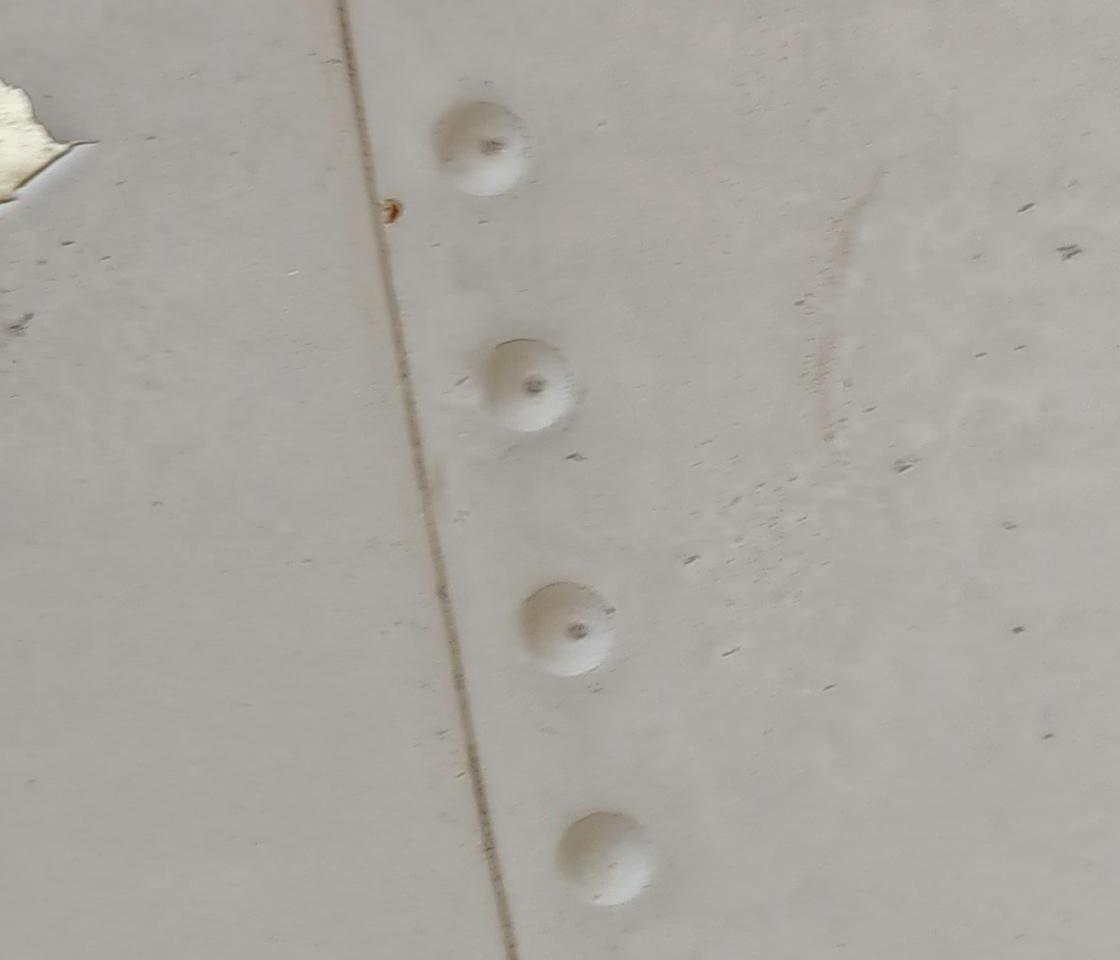paint_peel: (1, 77, 77, 216)
